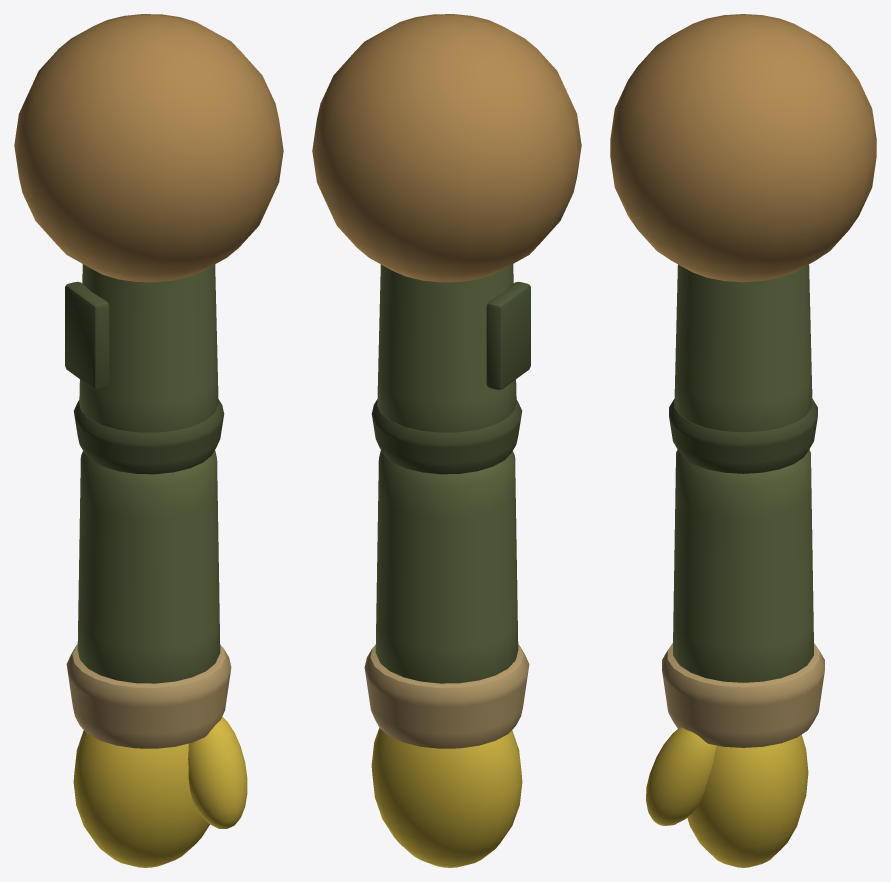
File: Arm_Trooper_L.fbx
3 renders of one model, left to right at view 1: azimuth 30°, elevation 25°; view 2: azimuth 150°, elevation 25°; view 3: azimuth 270°, elevation 25°, orthographic.
Parts seen in each view (by area): view 1: Arm_Trooper_L; view 2: Arm_Trooper_L; view 3: Arm_Trooper_L.
Boxes of the visible parts, left/top/right/bottom form: Arm_Trooper_L: left=14, top=14, right=283, bottom=867; Arm_Trooper_L: left=312, top=14, right=581, bottom=867; Arm_Trooper_L: left=610, top=14, right=876, bottom=867.
Bounding box in the file's own units: 0.0578 × 0.1981 × 0.0572.
